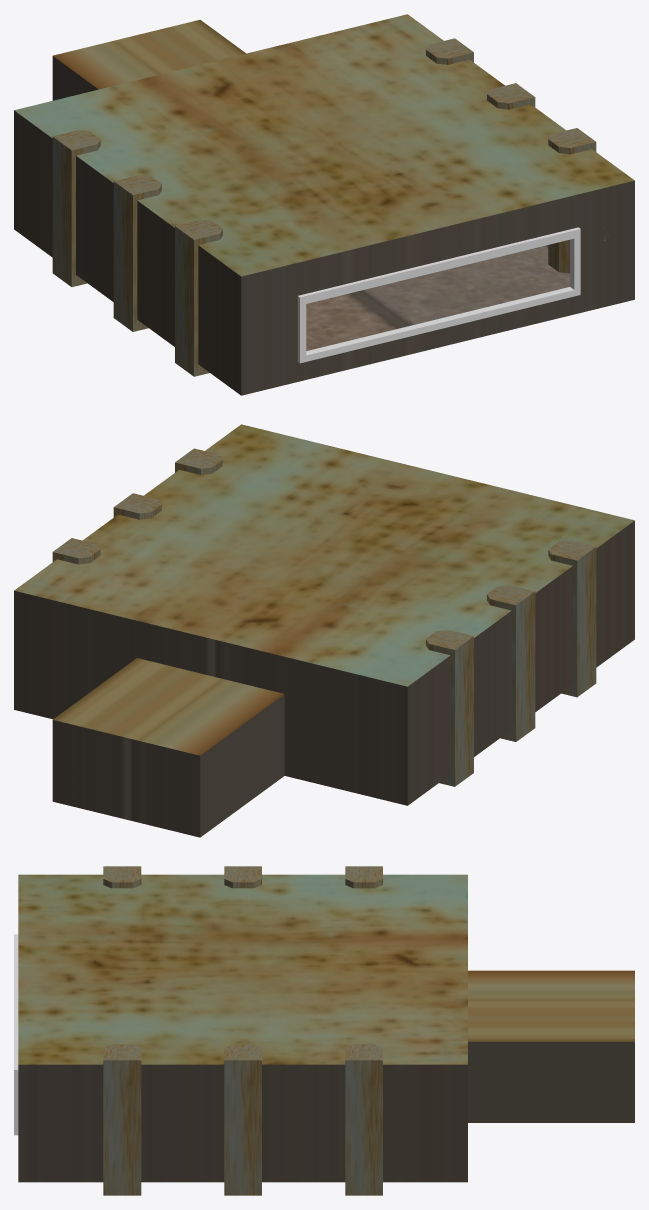
The picture shows the model from 3 angles, top to bottom: view 1: azimuth 30°, elevation 25°; view 2: azimuth 150°, elevation 25°; view 3: azimuth 270°, elevation 25°; orthographic projection.
Parts seen in each view (by area): view 1: Plane, Cube.007, Cube.003, Cube.002, Cube.005, Cube.006, Cube.001, Cube.004; view 2: Plane, Cube.003, Cube.005, Cube.002, Cube.001, Cube.004, Cube.006; view 3: Plane, Cube.006, Cube.004, Cube.001, Cube.007, Cube.005, Cube.003, Cube.002.
Boxes of the visible parts, x1,y1,x2,y2 form: Plane: (14,14,634,395); Cube.007: (297,227,580,363); Cube.003: (113,175,161,331); Cube.002: (52,130,100,286); Cube.005: (175,219,222,376); Cube.006: (548,128,596,273); Cube.001: (487,83,535,109); Cube.004: (426,38,473,64); Plane: (14,424,634,837); Cube.003: (487,585,535,741); Cube.005: (548,540,596,697); Cube.002: (426,630,473,786); Cube.001: (113,493,161,519); Cube.004: (52,538,100,564); Cube.006: (175,448,222,474); Plane: (18,874,634,1182); Cube.006: (103,1044,141,1195); Cube.004: (345,1044,382,1195); Cube.001: (224,1044,261,1195); Cube.007: (14,934,18,1135); Cube.005: (103,866,141,888); Cube.003: (224,866,261,888); Cube.002: (345,866,382,888).
Bounding box in the file's own units: 3684 × 1197 × 4980.
Materials: 7 (5 with a texture image).
